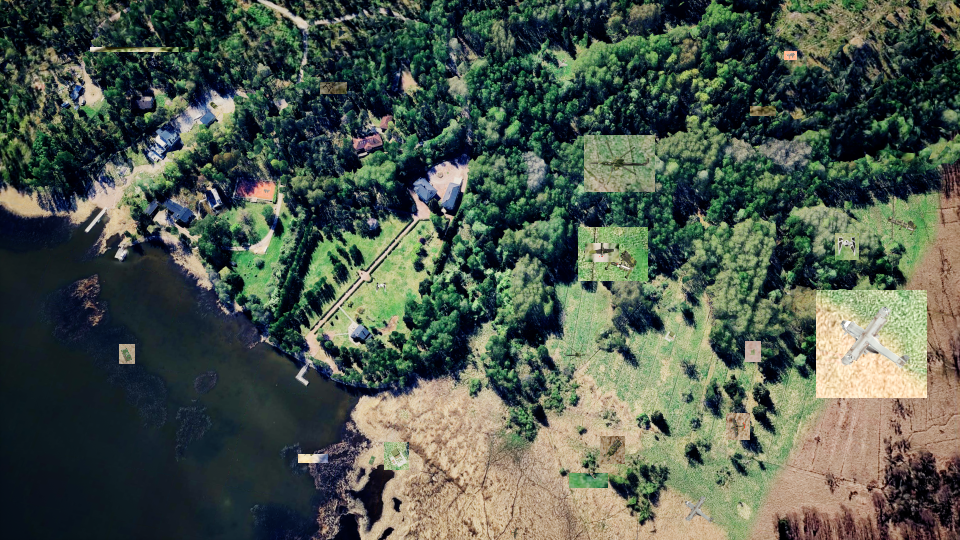condor: (816, 290, 927, 398)
hangar: (90, 47, 199, 52)
helicopter: (584, 135, 655, 192)
jammer: (119, 344, 135, 364)
jet_plane: (569, 473, 608, 488)
large_launcher: (578, 227, 648, 281)
large_tower: (320, 82, 347, 94)
medium_launcher: (750, 106, 776, 116)
medium_plane: (585, 243, 619, 262)
mine_roller: (600, 436, 625, 464)
small_launcher: (745, 341, 761, 362)
small_plane: (726, 413, 750, 440)
small_tower: (384, 442, 409, 470)
spacecraft: (835, 233, 859, 260)
ta-ta: (784, 51, 797, 60)
tank: (298, 454, 328, 463)
